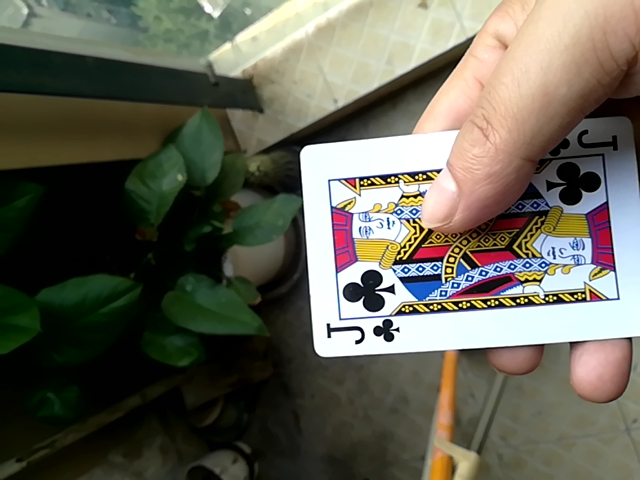mh j: (294, 124, 640, 363)
